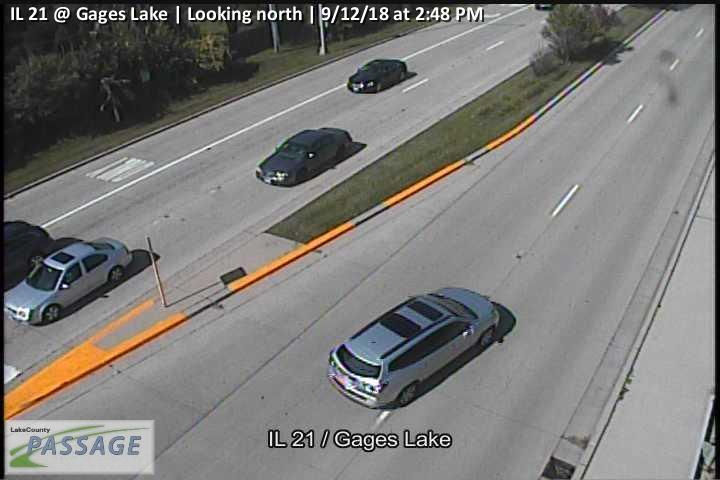SUV: (326, 288, 504, 408)
Sedan: (3, 237, 132, 326), (254, 126, 351, 185), (346, 56, 407, 93)
